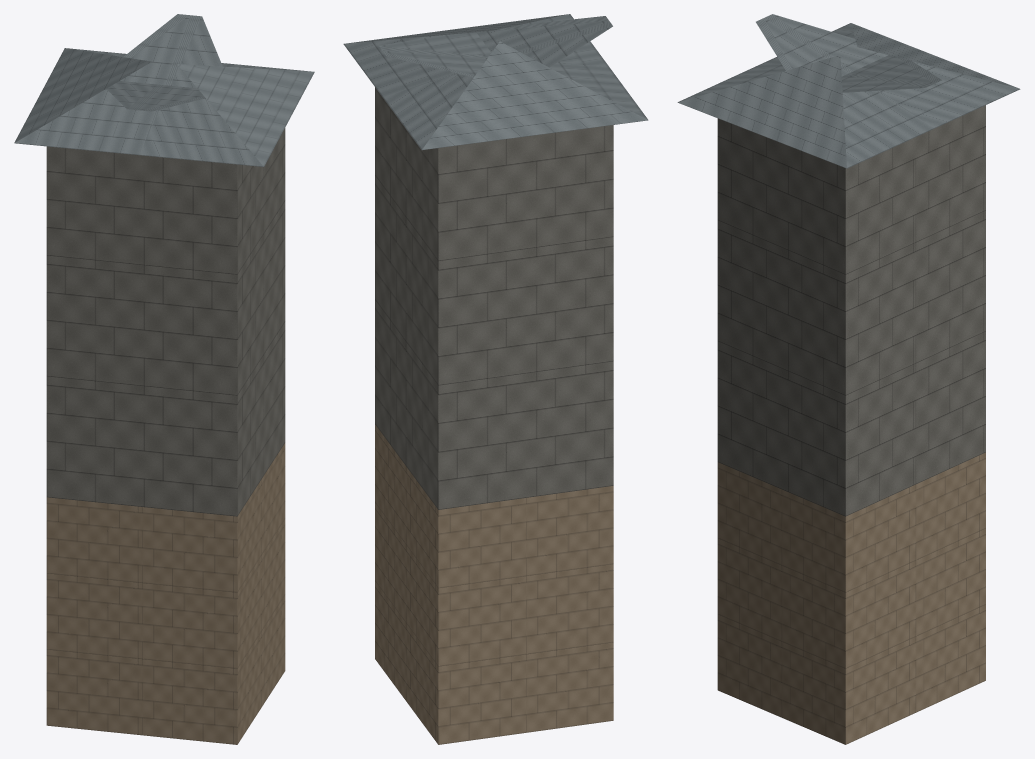
File: bld_c12_41_482.gltf
3 views of the same model, side by side, from view 1: azimuth 30°, elevation 25°; view 2: azimuth 150°, elevation 25°; view 3: azimuth 270°, elevation 25° (orthographic). The views are drawn at different scales.
Visible parts, largest first — view 1: bld_c12_41_482; view 2: bld_c12_41_482; view 3: bld_c12_41_482.
Part boxes in pixels (box(x1,y1,x2,y2)): bld_c12_41_482: box(14, 14, 314, 744); bld_c12_41_482: box(343, 14, 648, 744); bld_c12_41_482: box(677, 14, 1020, 744).
Size of the model in its own units: 6.98 by 14.2 by 6.96.
3 materials, 3 textured.
